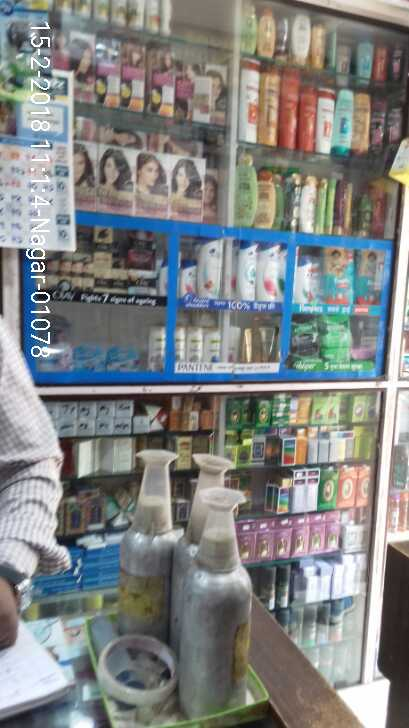venus: (39, 346, 73, 372), (73, 346, 106, 371), (106, 348, 140, 371)
